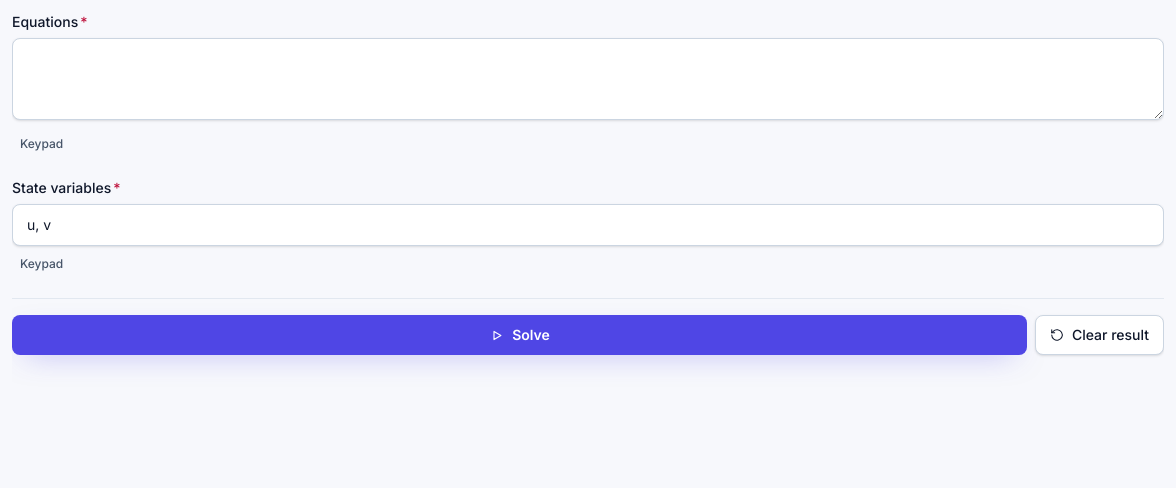
Test: MethodForm variable wiring › offers the declared independent and state variables for ODE-system fields
The width and height of the screenshot is (1176, 488).
What coordinates should you click on to do the following:
click the button "Keypad" below "Equations"
I would click on:
 (42, 144)
Its box is [12,130,71,158].
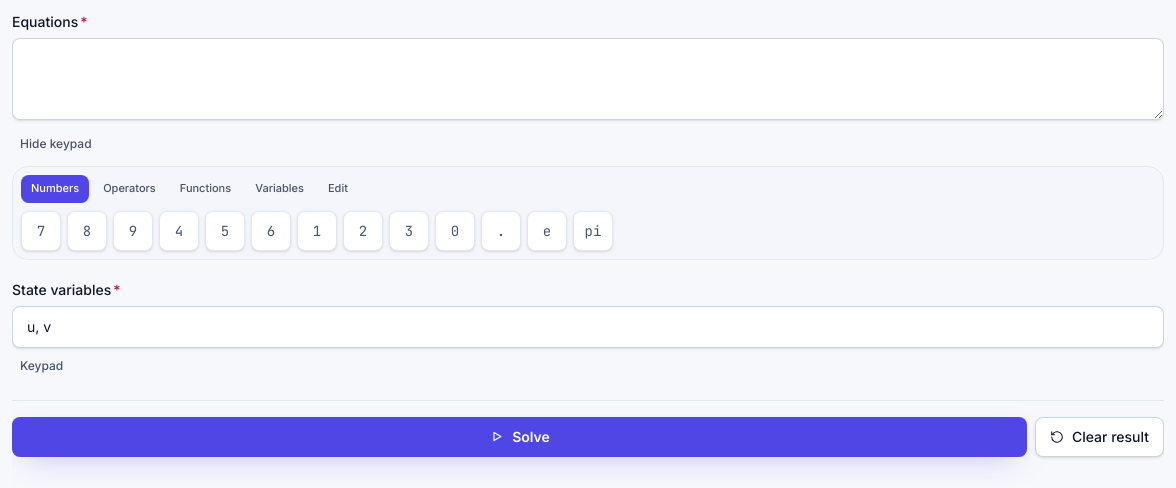
What coordinates should you click on to do the following:
click the tab "Variables"
I would click on:
 (280, 189)
Its box is [245,175,314,203].
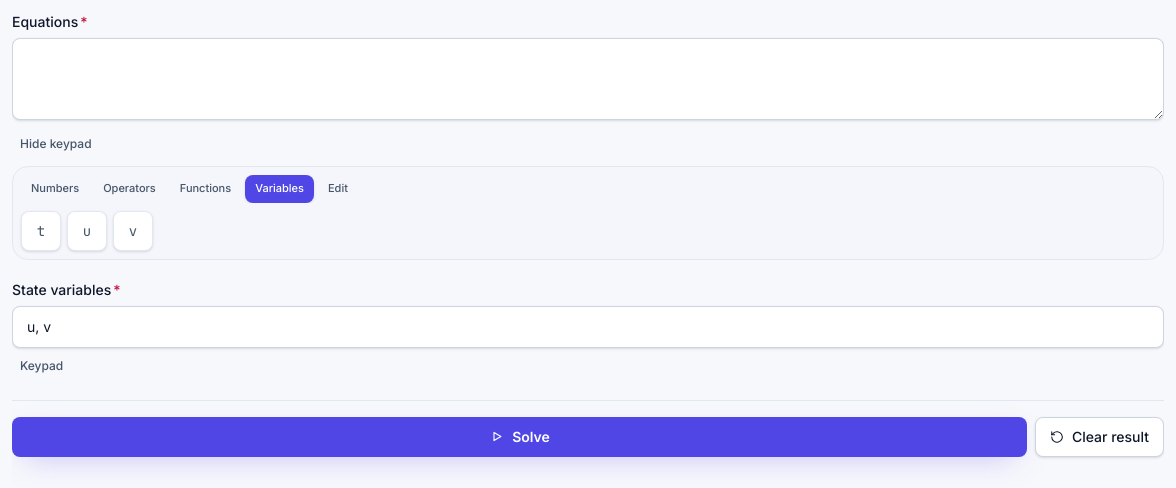
Expected: the button named "Insert variable t" is shown, [21,211,61,251]
Expected: the button named "Insert variable u" is shown, [67,211,107,251]
Expected: the button named "Insert variable v" is shown, [113,211,153,251]
